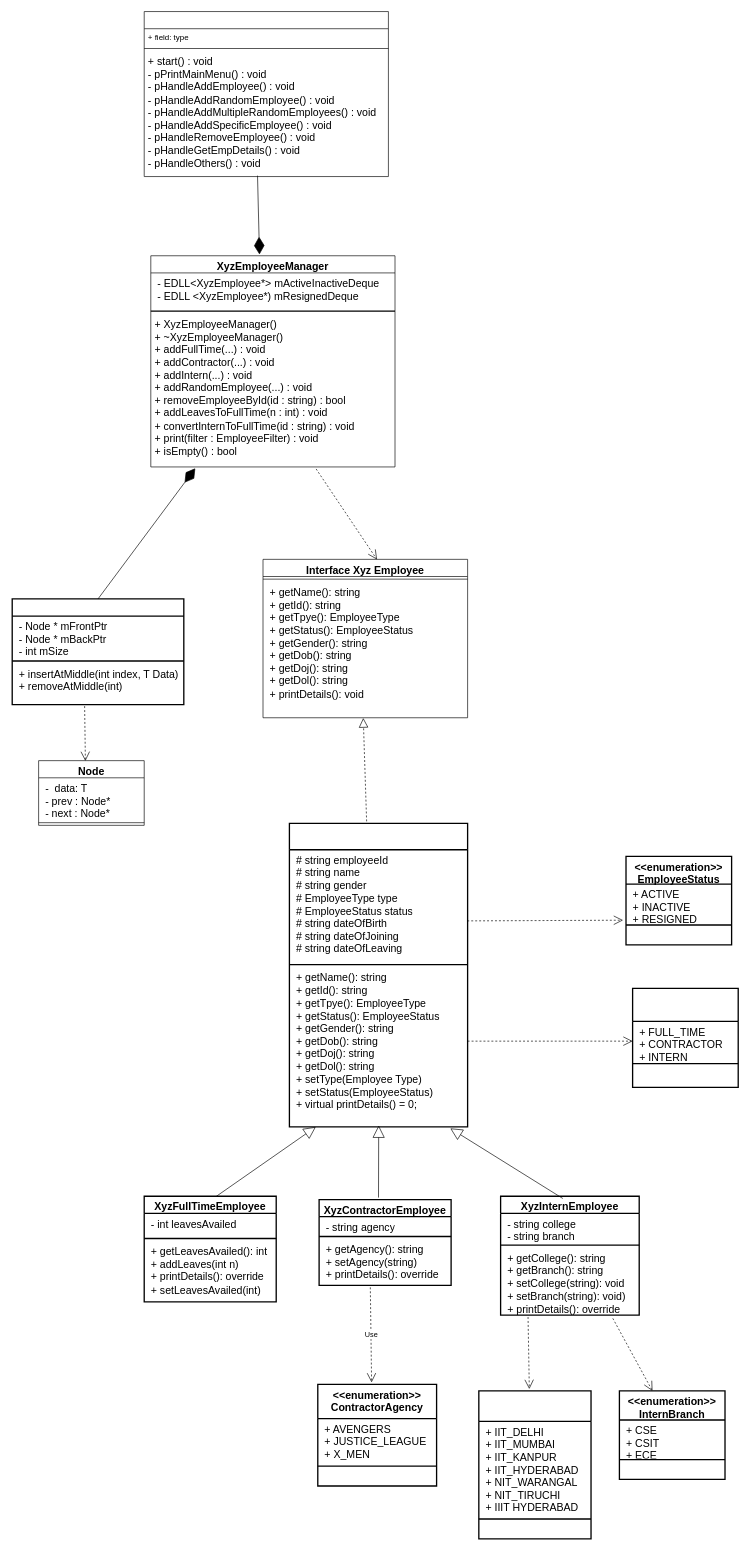
The diagram is 750 pixels wide and 1552 high, and some of its shapes have lost their labels. Here are the shapes that lost their labels. From the top down, the box of each, then its label:
(144, 11, 388, 177): Menuhandler
(11, 598, 184, 705): EDLL<T>
(288, 822, 468, 1127): Xyz Employee
(632, 987, 739, 1088): <<enumeration>> EmployeeType
(478, 1390, 591, 1539): <<enumeration>> InternCollege
